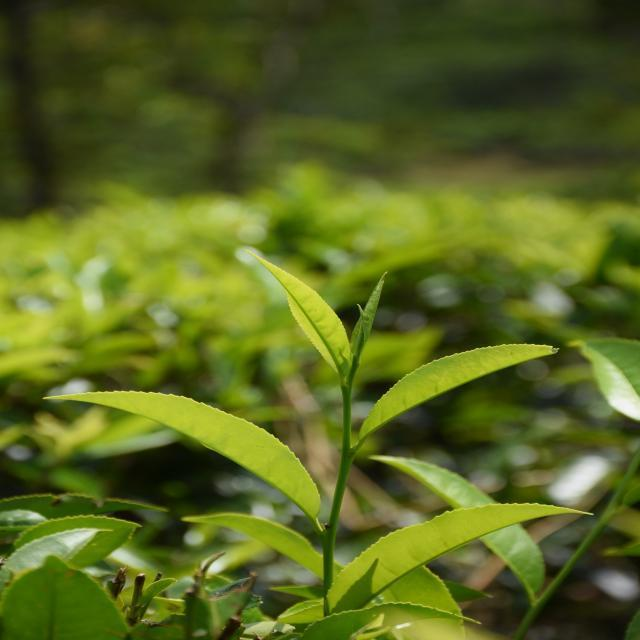Stem: (342, 385, 351, 396)
